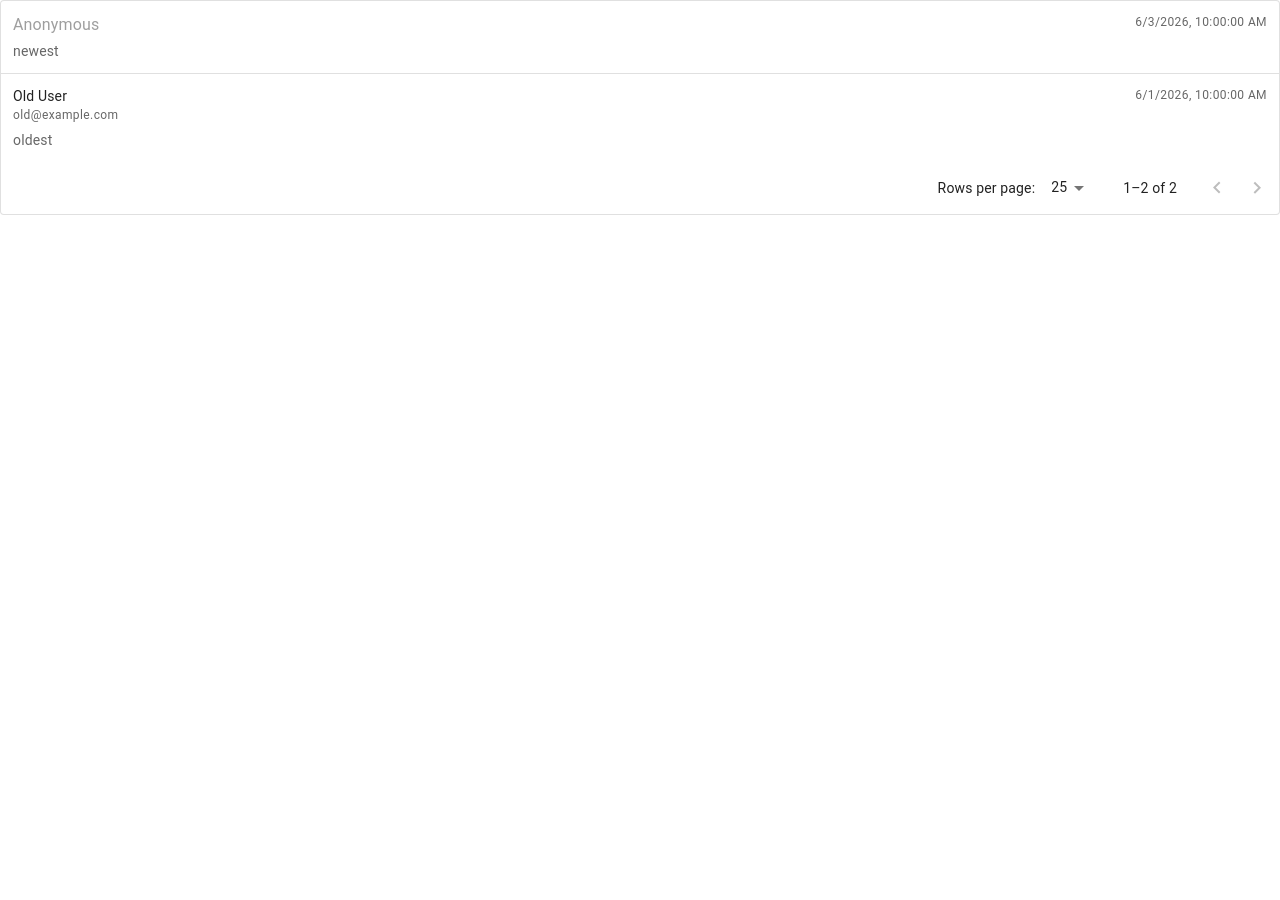
FeedbackTable › mobile (tappable list + modal) › opens a modal with the full message when a row is tapped, and closes it
What coordinates should you click on to do the following:
click the button with aria-label "view feedback from old user"
I would click on:
 (40, 96)
Its box is x1=1 y1=74 x2=1279 y2=162.
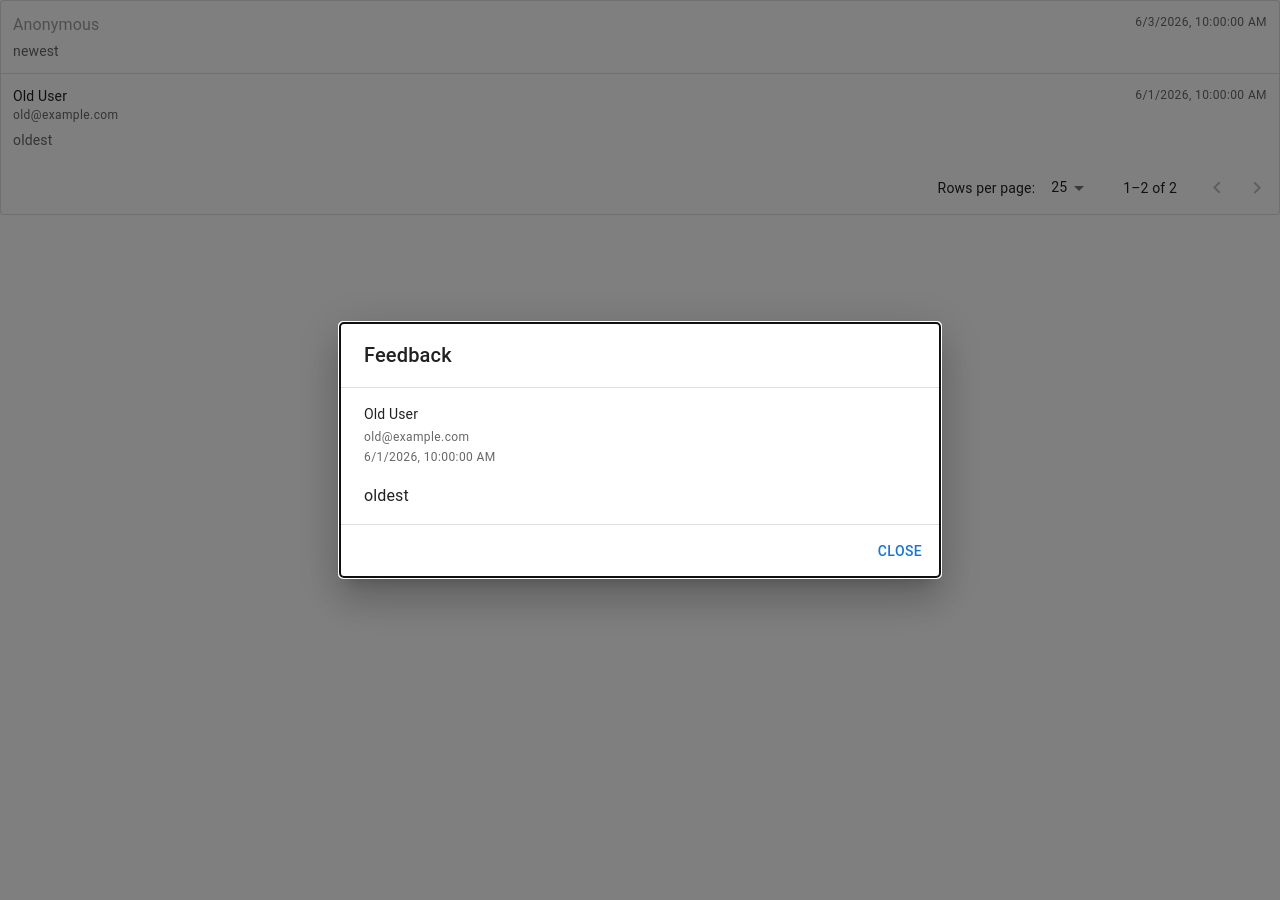
Expected: the text "oldest" is shown, x1=364 y1=486 x2=409 y2=505
Expected: the text "Old User" is shown, x1=364 y1=406 x2=418 y2=422
What coordinates should you click on to do the following:
click the button "Close"
I would click on:
 (900, 551)
Its box is x1=868 y1=533 x2=932 y2=569.
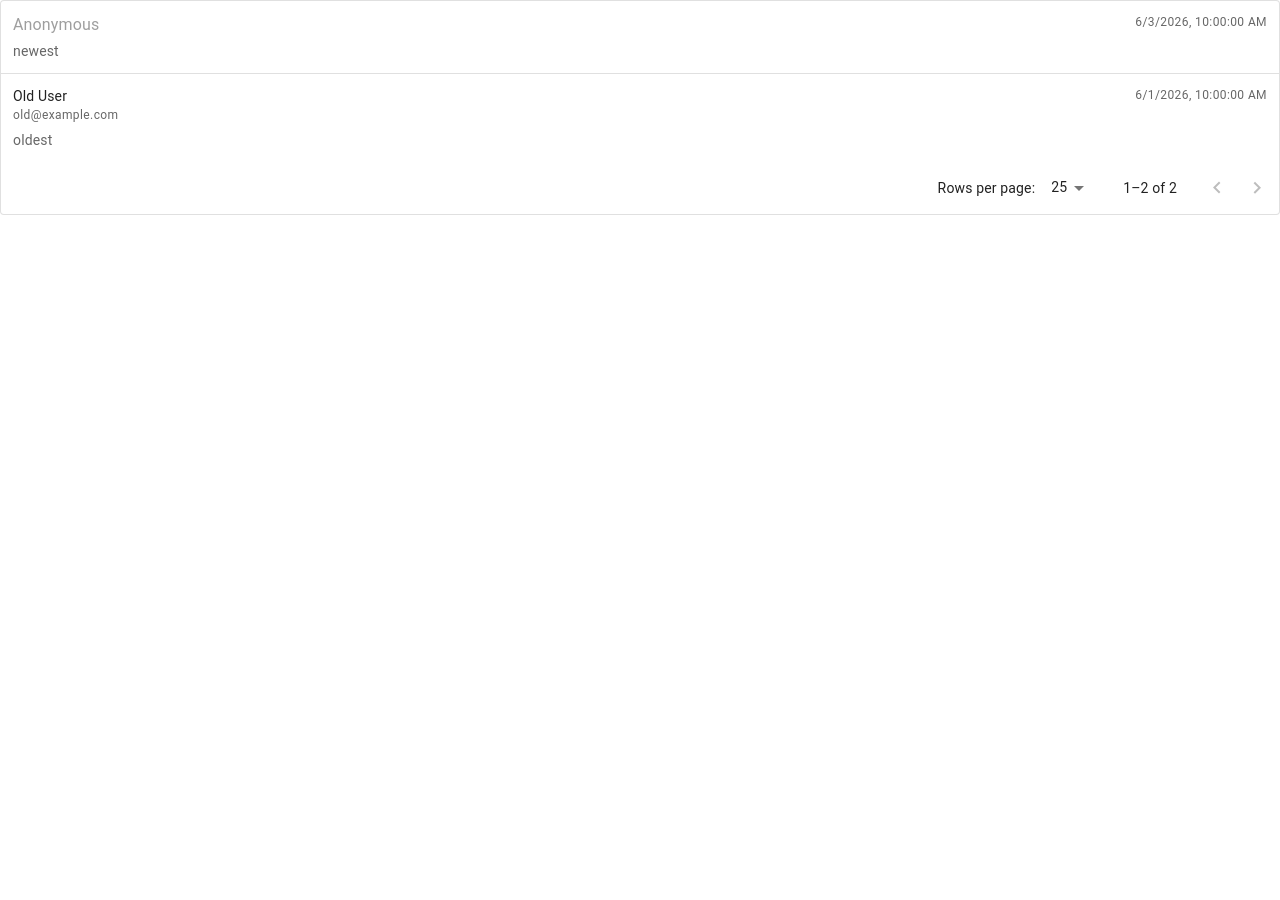
Expected: the dialog is gone
